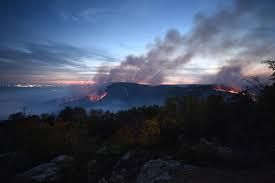yanwu: (93, 1, 275, 90)
